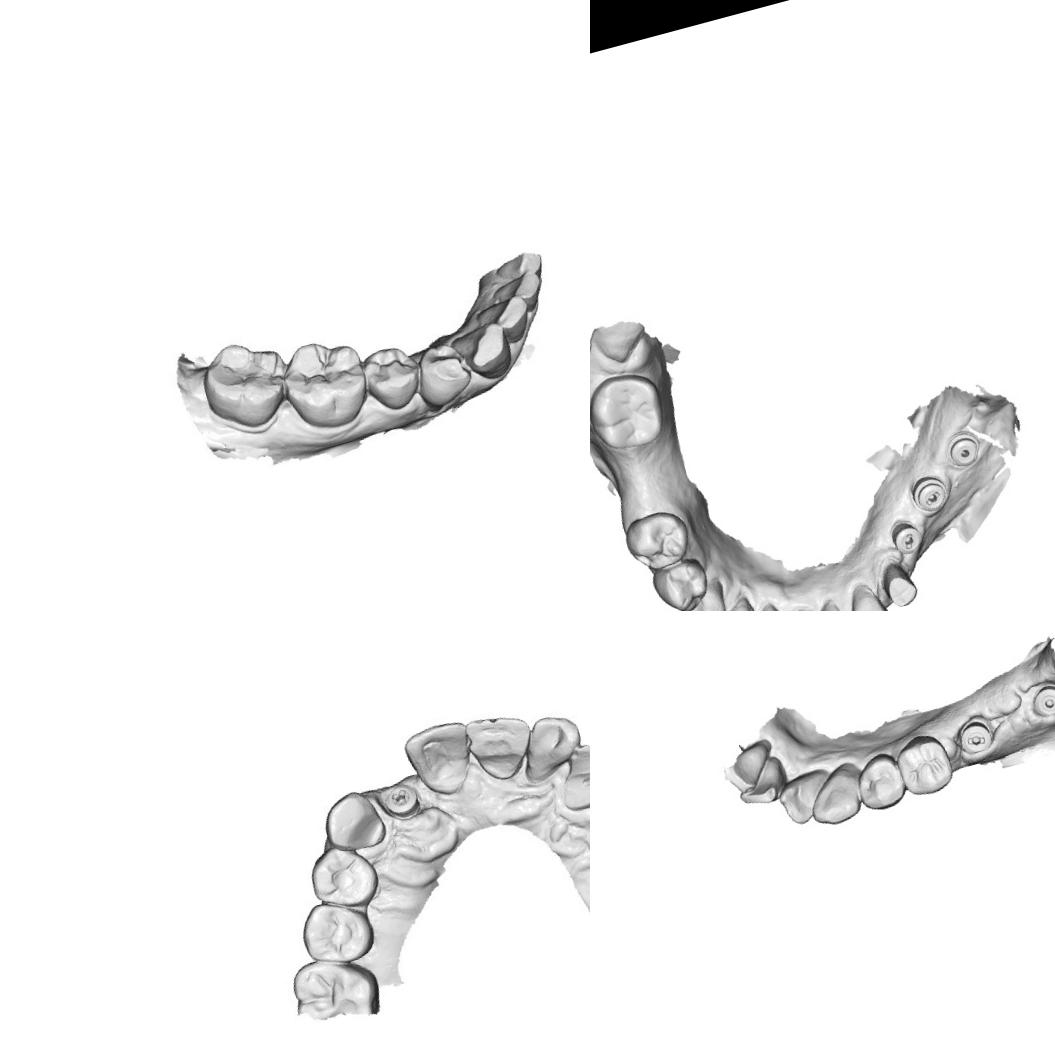abutment: (876, 555, 922, 611)
canine: (315, 784, 394, 859), (800, 761, 866, 830), (456, 318, 516, 383), (548, 735, 590, 816), (840, 577, 899, 611), (675, 580, 737, 611)
implant: (944, 428, 985, 472), (1025, 677, 1055, 723)
implant_minus: (907, 470, 952, 516), (952, 716, 996, 758), (378, 780, 420, 822), (887, 516, 926, 558)
incisor: (407, 718, 480, 797), (465, 708, 538, 779), (518, 714, 580, 783), (773, 766, 839, 829), (490, 268, 547, 324), (480, 293, 535, 350), (734, 770, 791, 810), (492, 243, 546, 285), (718, 747, 764, 796), (807, 591, 861, 611), (709, 593, 766, 611), (745, 597, 796, 611)
molar: (191, 332, 295, 441), (273, 327, 377, 436), (590, 364, 671, 458)
premolar: (296, 892, 384, 974), (302, 838, 382, 918), (354, 336, 426, 420), (618, 503, 698, 576), (408, 335, 476, 412), (890, 727, 958, 800), (850, 748, 909, 815), (647, 554, 715, 611)
